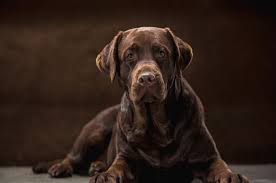dog: (31, 17, 248, 182)
